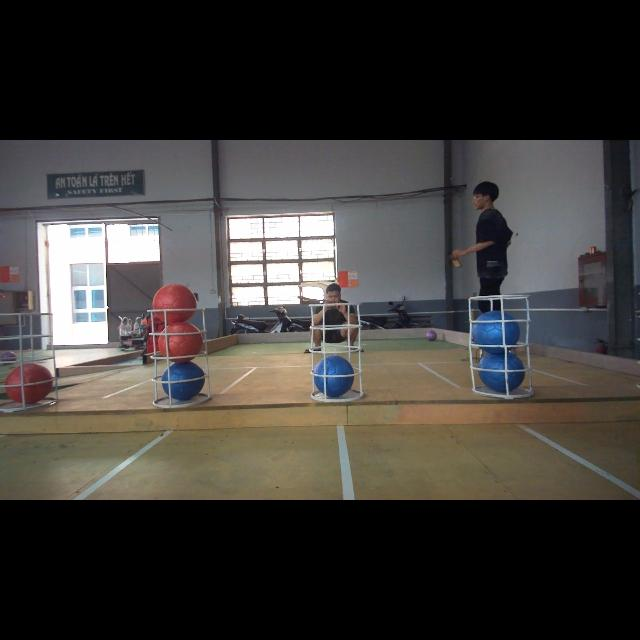B: (472, 311, 520, 354), (478, 352, 526, 392), (160, 361, 204, 401), (314, 356, 354, 396)
R: (4, 363, 52, 405), (158, 322, 204, 363), (152, 284, 196, 322)
